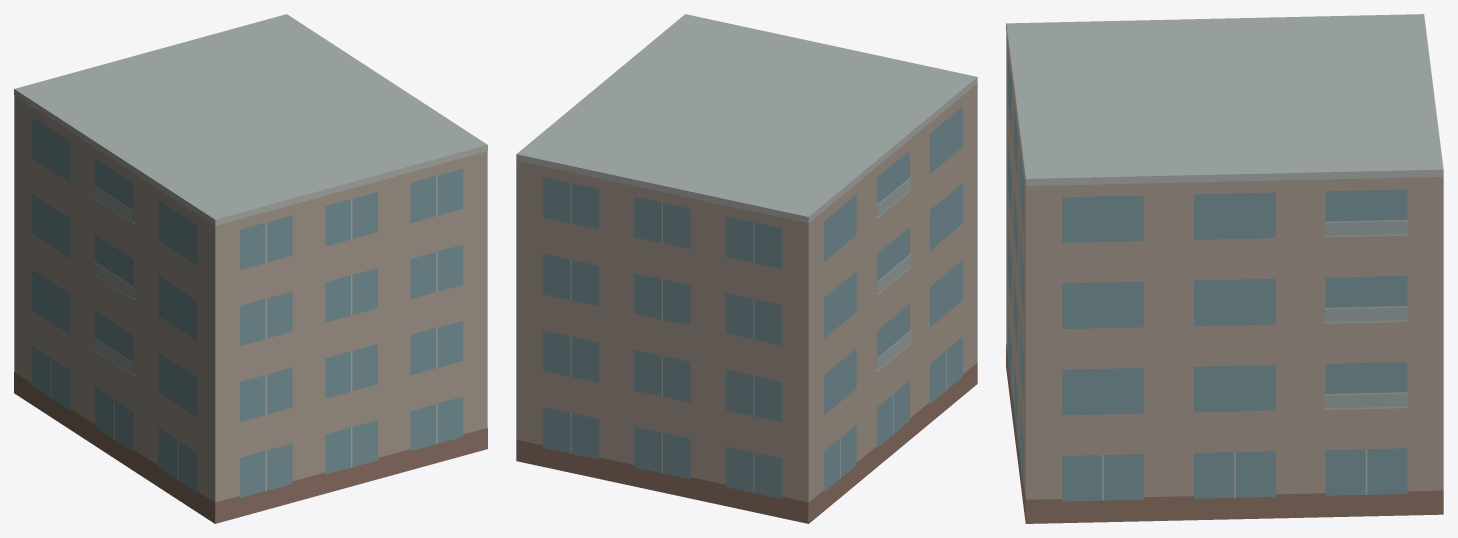
The model's file is survey-upis-32734288.glb.
3 views of the same model, side by side, from view 1: azimuth 30°, elevation 25°; view 2: azimuth 150°, elevation 25°; view 3: azimuth 270°, elevation 25° (orthographic). The views are drawn at different scales.
Visible parts, largest first — view 1: survey-upis-32734288.tmp; view 2: survey-upis-32734288.tmp; view 3: survey-upis-32734288.tmp.
Boxes of the visible parts, bbox=[...] form: survey-upis-32734288.tmp: bbox=[14, 14, 487, 523]; survey-upis-32734288.tmp: bbox=[516, 14, 977, 523]; survey-upis-32734288.tmp: bbox=[1006, 14, 1443, 523].
Bounding box in the file's own units: 12.01 × 11.7 × 13.45.
